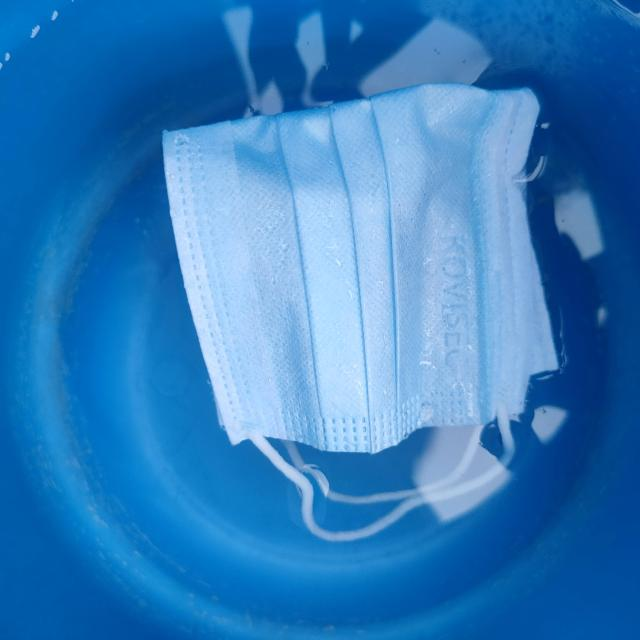mask: (154, 74, 576, 566)
